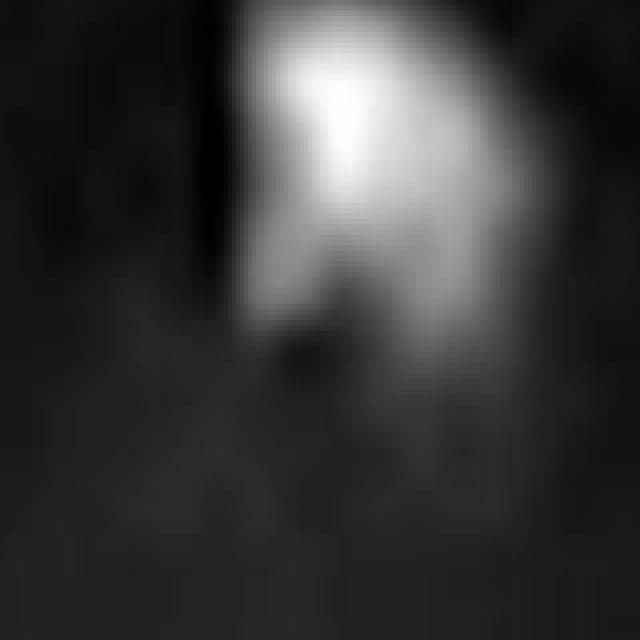person: (213, 1, 549, 460)
